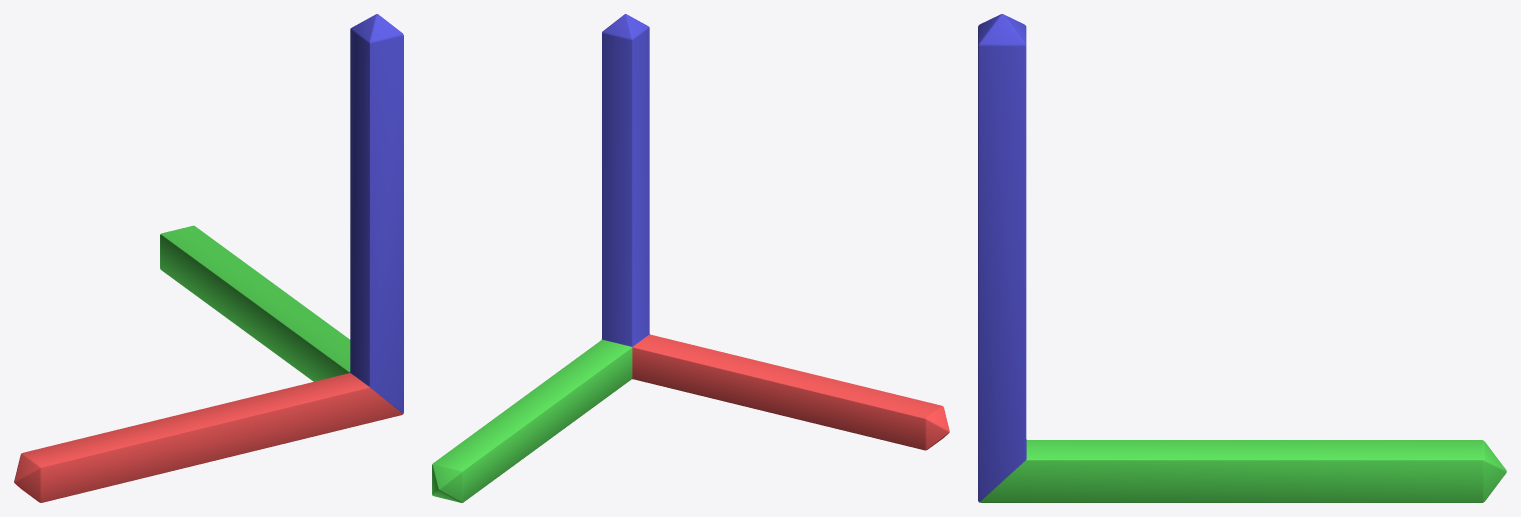
Rendered from Axis_locator.fbx.
3 renders of one model, left to right at view 1: azimuth 30°, elevation 25°; view 2: azimuth 150°, elevation 25°; view 3: azimuth 270°, elevation 25°, orthographic. The views are drawn at different scales.
Visible parts, largest first — view 1: Locator; view 2: Locator; view 3: Locator.
Boxes of the visible parts, left/top/right/bottom form: Locator: left=14, top=14, right=403, bottom=502; Locator: left=432, top=14, right=949, bottom=502; Locator: left=978, top=14, right=1506, bottom=502.
Bounding box in the file's own units: 110 × 110 × 110.
